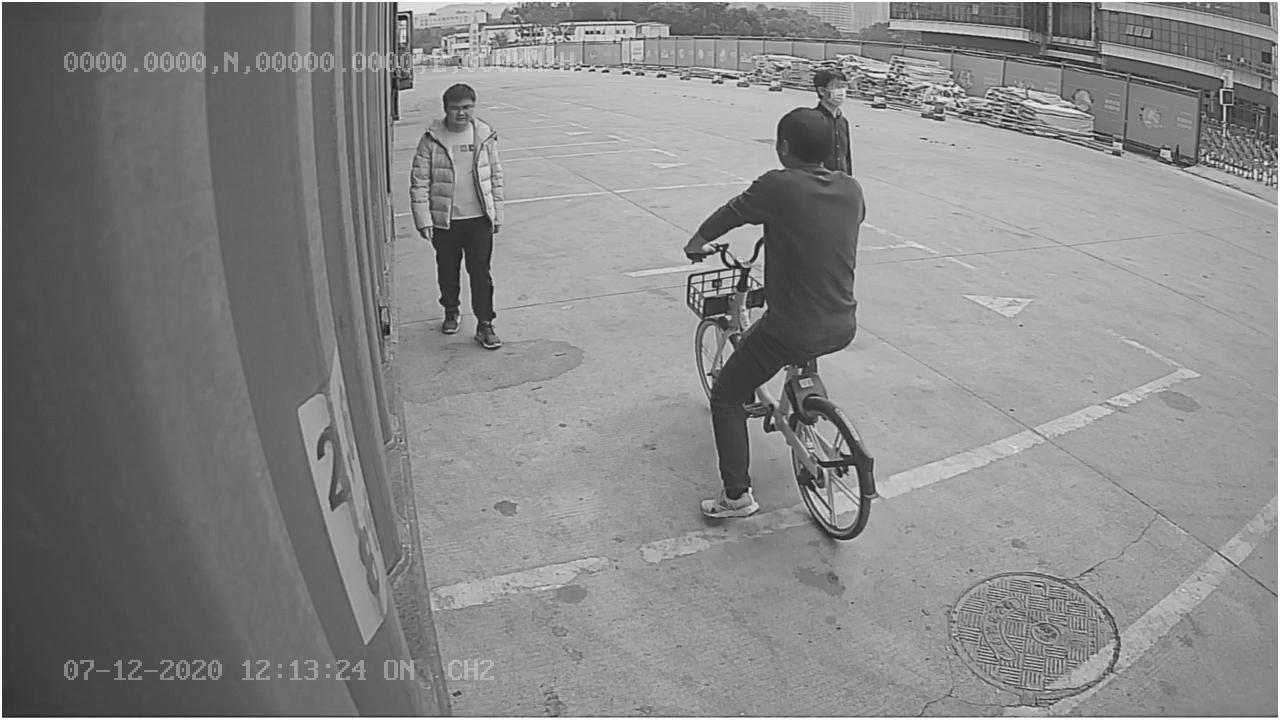person: (408, 81, 507, 351)
